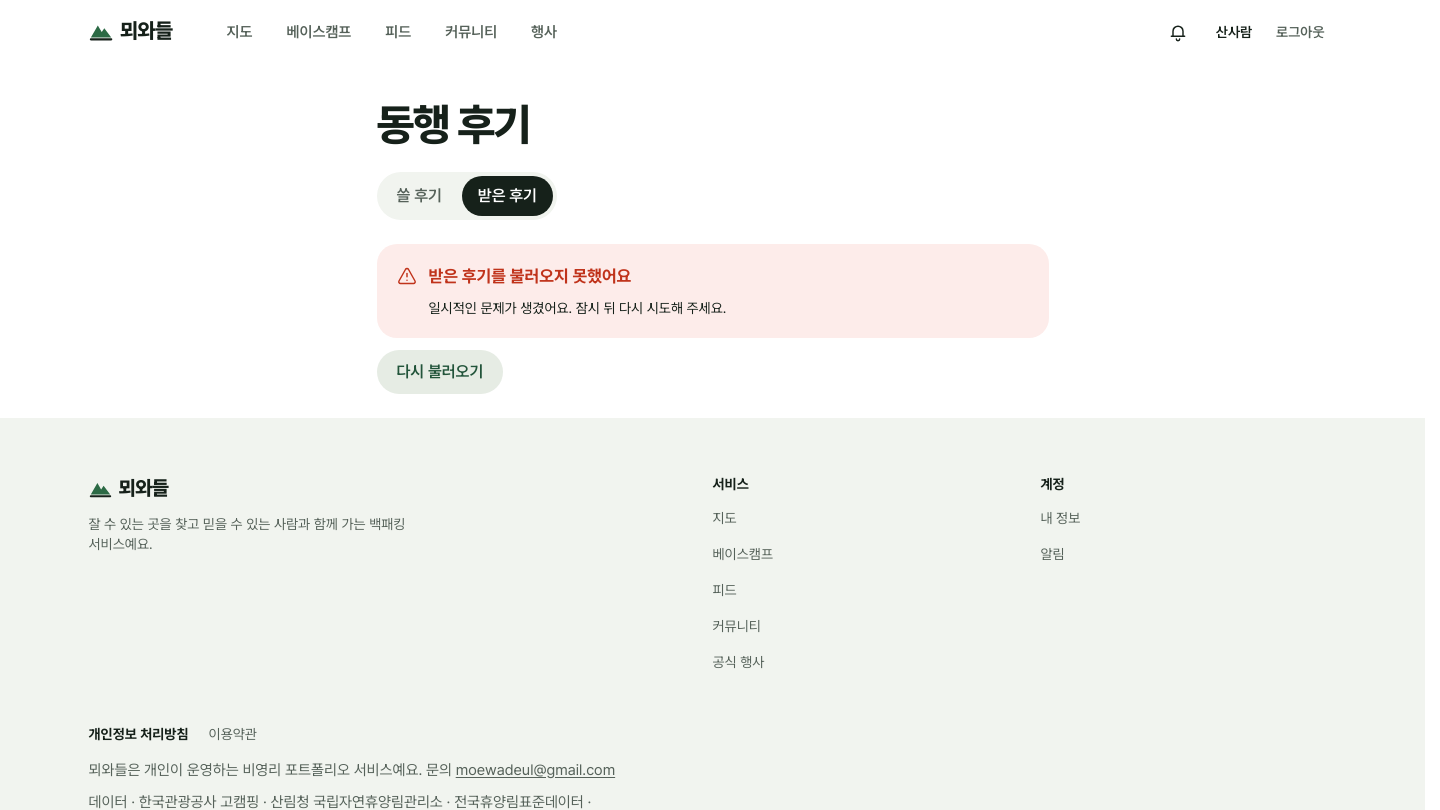
동행 후기 화면 › 받은 후기 › 불러오지 못하면 오류 문구가 나오고, 다시 불러오기를 누르면 후기가 나온다
Click the button "다시 불러오기" at coordinates (440, 372), box [376,350,503,394]
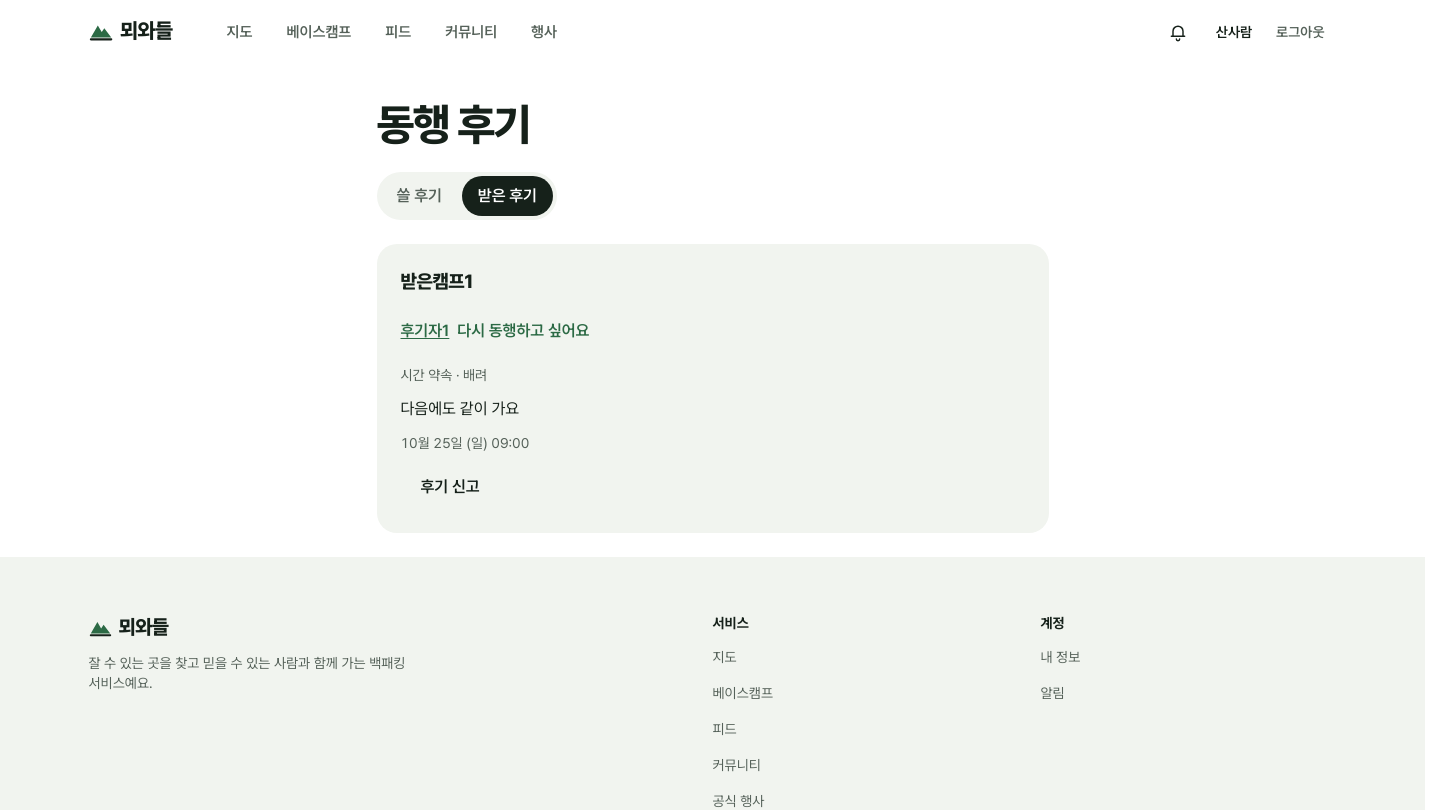
Result: the text "받은캠프1" is shown at [400,270,473,293]
Result: the text "받은 후기를 불러오지 못했어요" is gone
